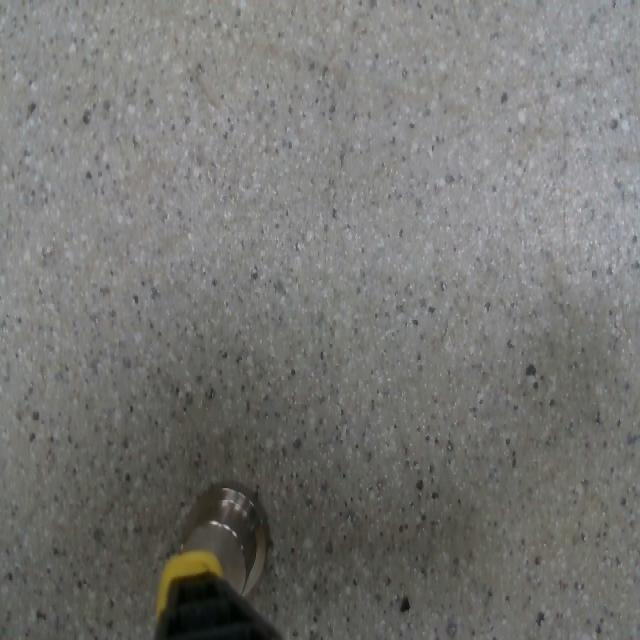sensor: (174, 480, 273, 601)
